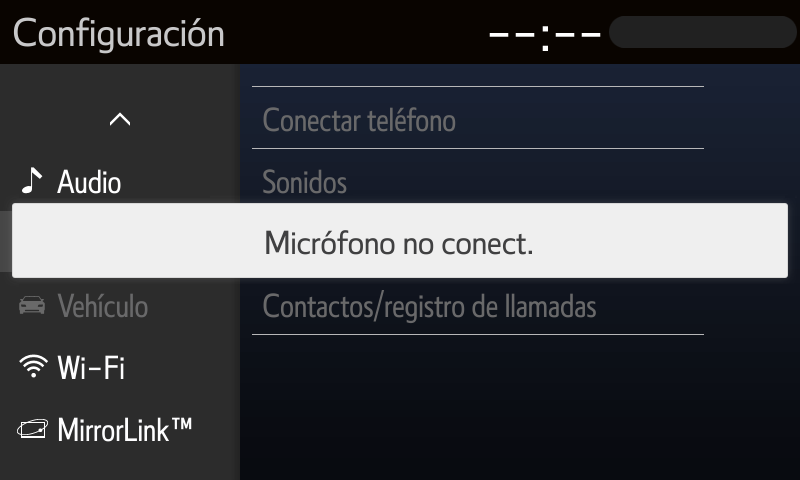touchPart: (8, 413, 199, 449), (15, 343, 136, 390), (22, 165, 131, 201), (104, 109, 136, 133)
untouchPart: (249, 82, 709, 155), (254, 273, 707, 338), (250, 145, 709, 207), (480, 11, 797, 53), (12, 15, 230, 57), (16, 287, 154, 325)
